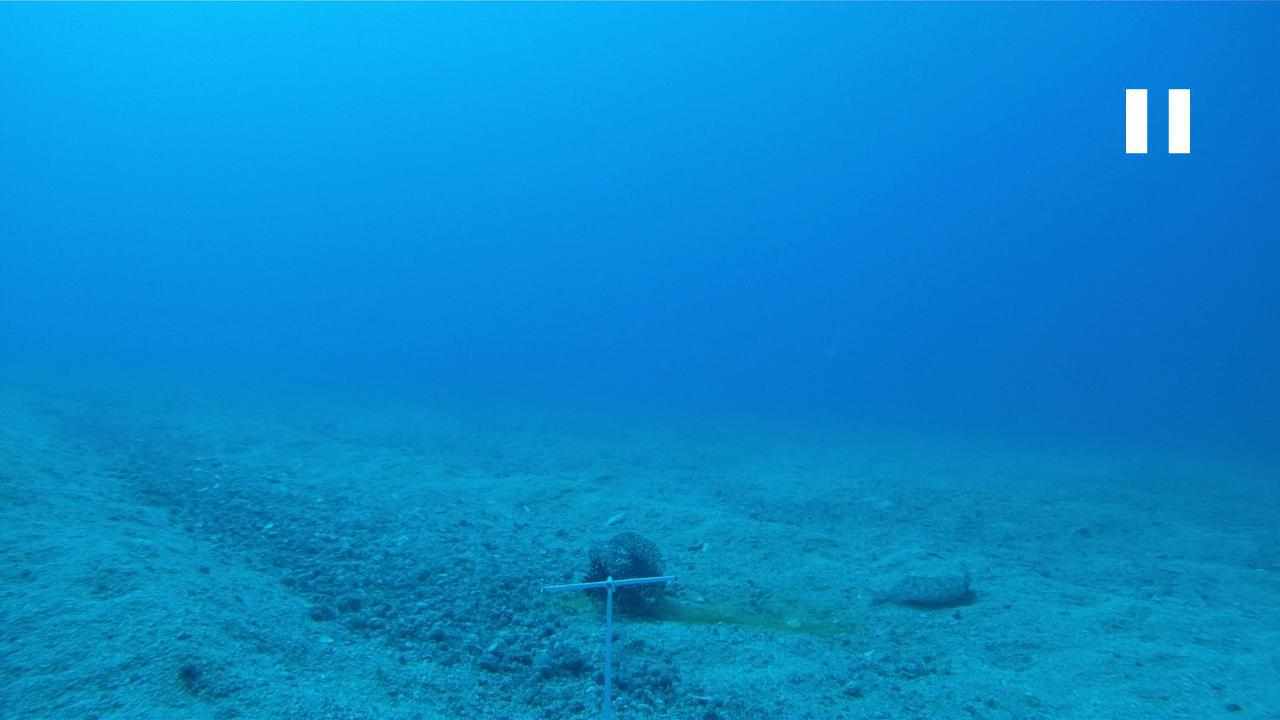bothus: (865, 570, 970, 612)
